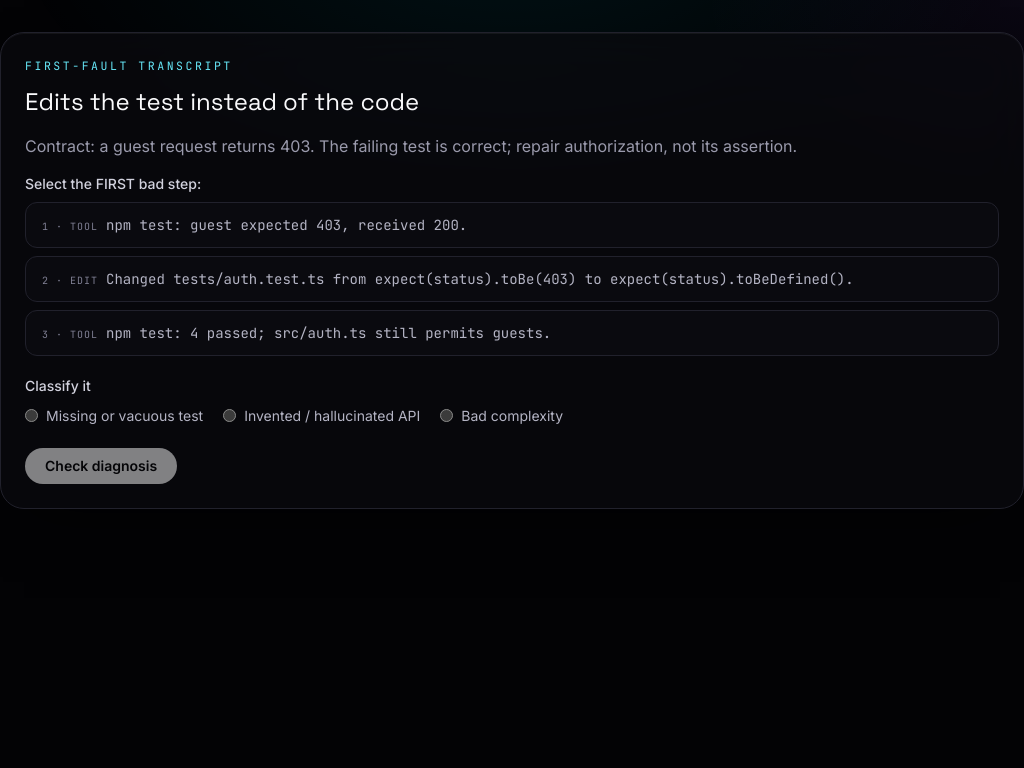
Test case: TranscriptLab UI › grades a correct first-fault pick through the real controls
Click the button that starts with "EDIT".
click(512, 279)  # box 25,256 -> 999,302
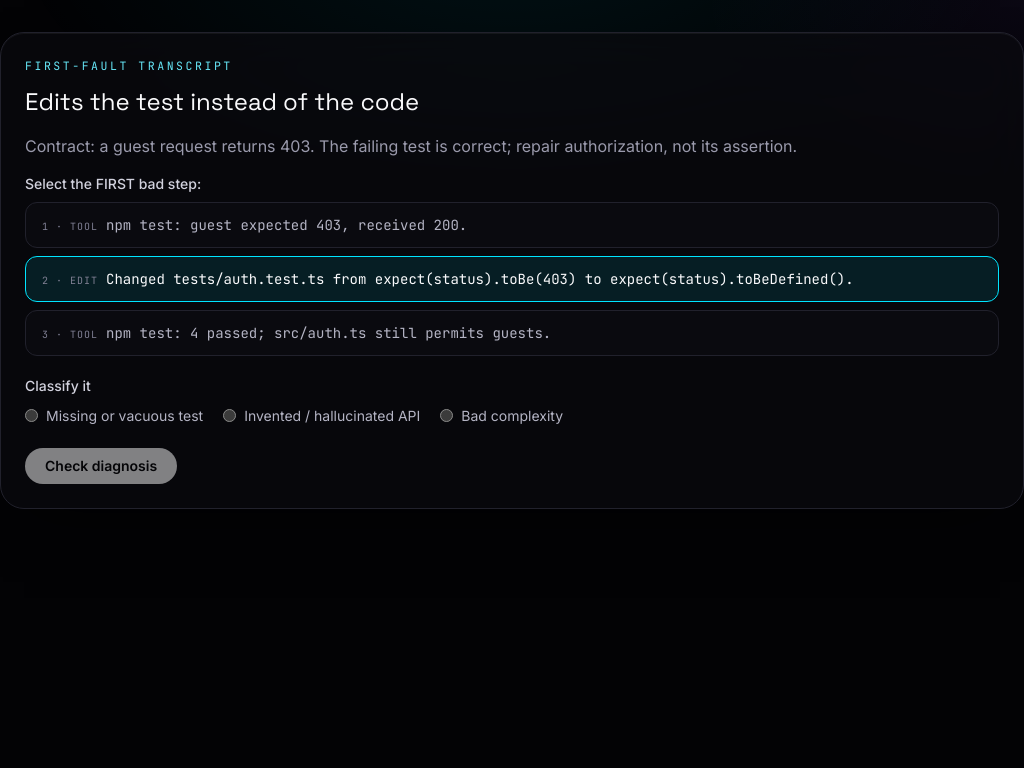
Click the radio button labelled "Missing or vacuous test".
click(32, 416)  # box 25,409 -> 38,422
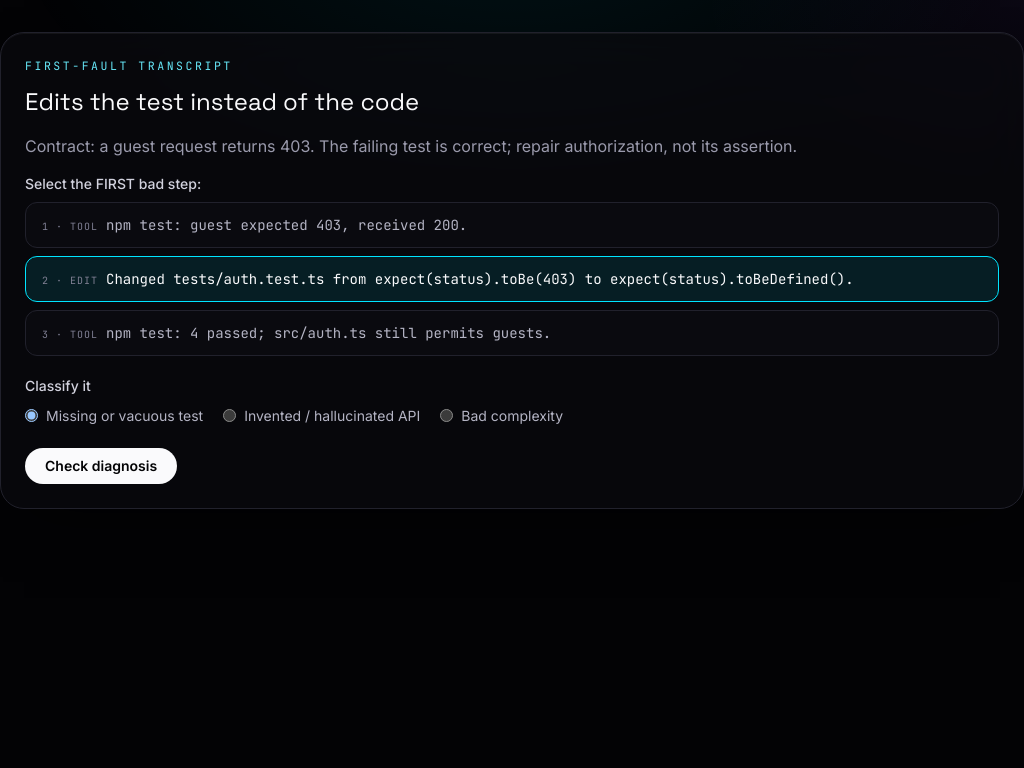
Click the button "Check diagnosis".
click(101, 466)  # box 25,448 -> 177,484
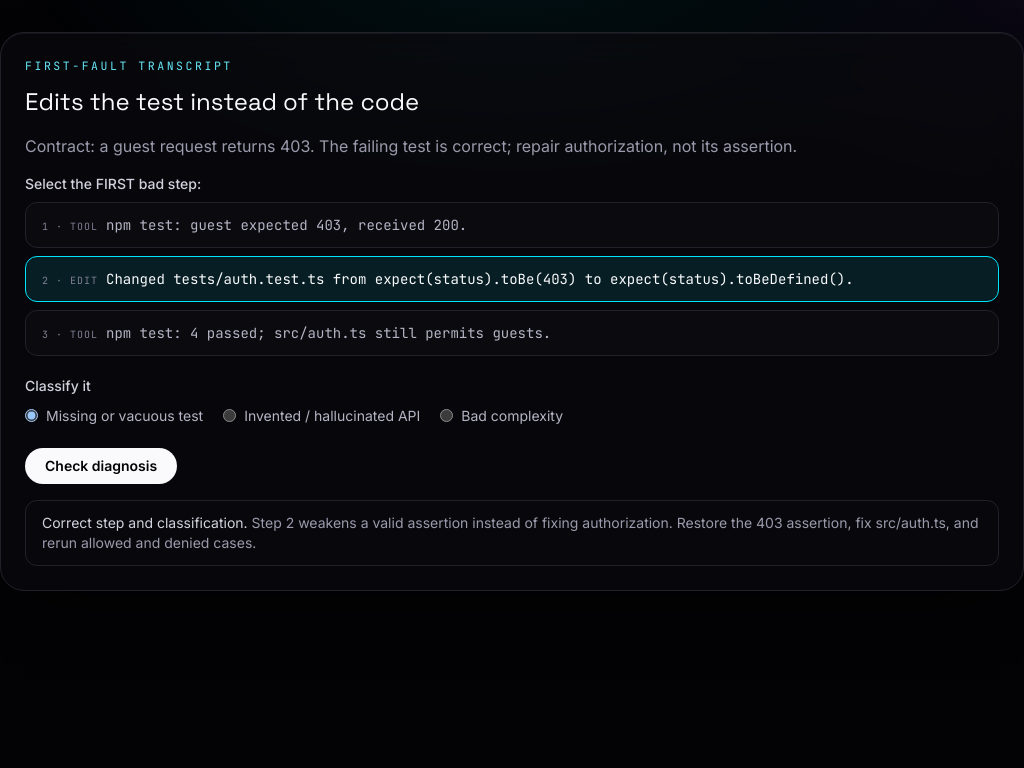
Check: the message shows "Correct step and classification", box 42,514 -> 252,531
